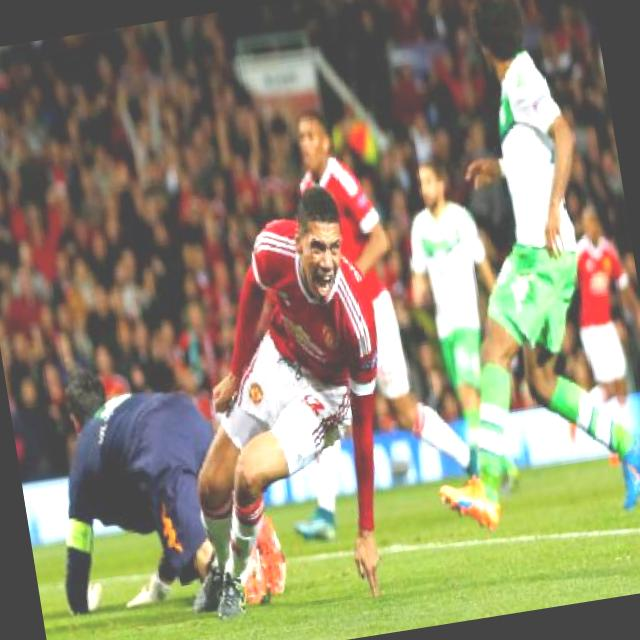Person: (153, 168, 427, 640)
